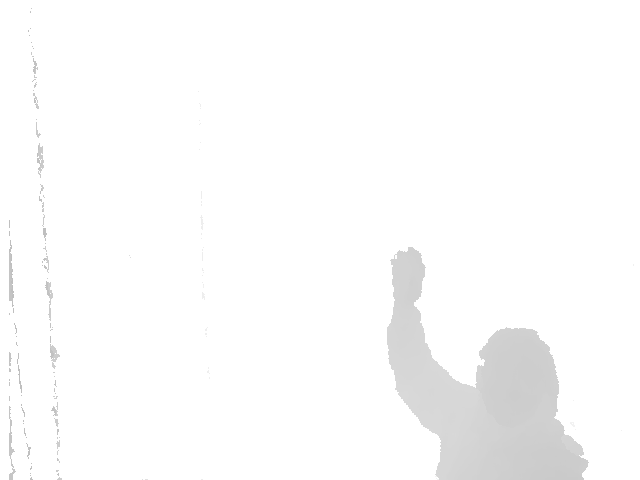hand: (389, 243, 427, 307)
head: (471, 326, 558, 424)
person: (384, 242, 591, 480)
